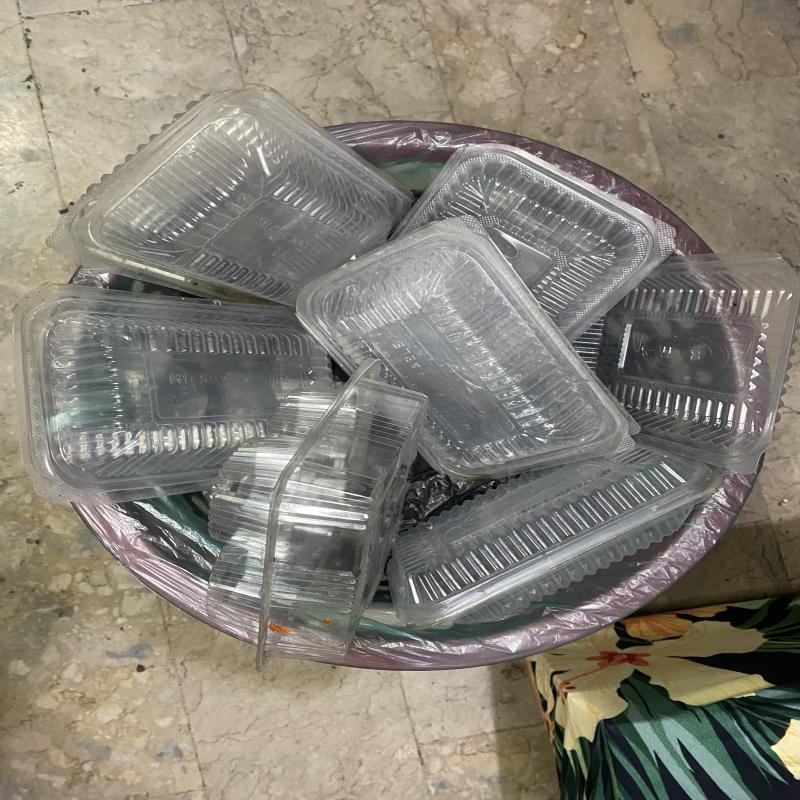plastic container: (294, 216, 641, 481), (72, 88, 416, 310), (12, 284, 332, 506), (207, 359, 428, 661), (387, 445, 726, 630), (387, 144, 675, 342), (573, 252, 800, 475)
